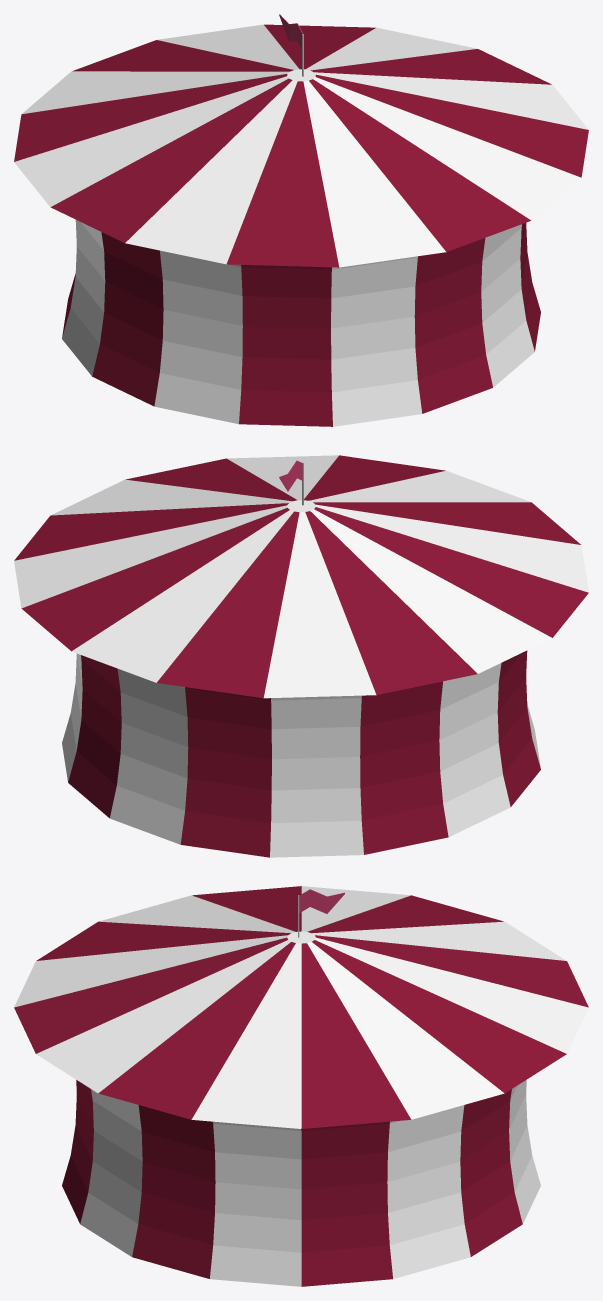
The model's file is Tent03.fbx.
The picture shows the model from 3 angles, top to bottom: view 1: azimuth 30°, elevation 25°; view 2: azimuth 150°, elevation 25°; view 3: azimuth 270°, elevation 25°; orthographic projection.
Visible parts, largest first — view 1: Tent03; view 2: Tent03; view 3: Tent03.
Boxes of the visible parts, box(x1,y1,x2,y2) form: Tent03: box(14, 14, 588, 426); Tent03: box(14, 455, 588, 857); Tent03: box(14, 886, 588, 1286).
Size of the model in its own units: 874 by 497 by 874.
